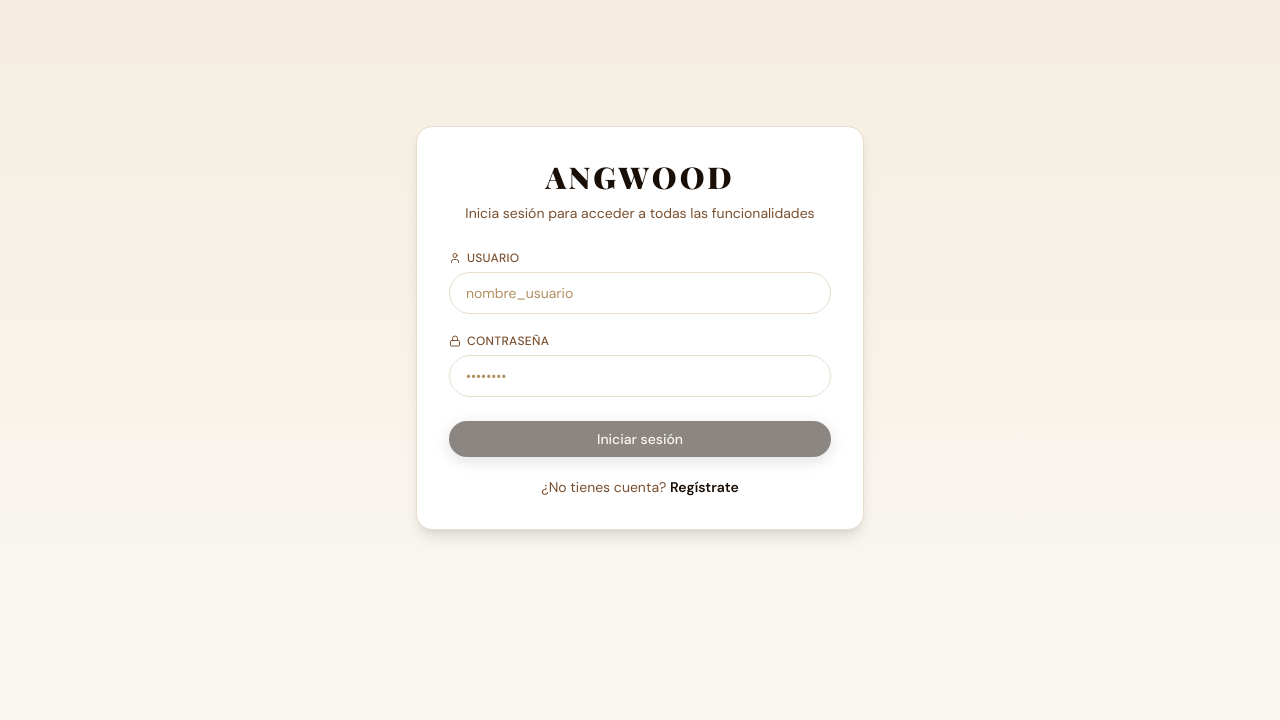
Test case: Login page › muestra error si login falla
This screenshot has width=1280, height=720.
Step 1. Type "ana" into the field with placeholder "nombre_usuario" → (640, 293), box [449,272,831,314]
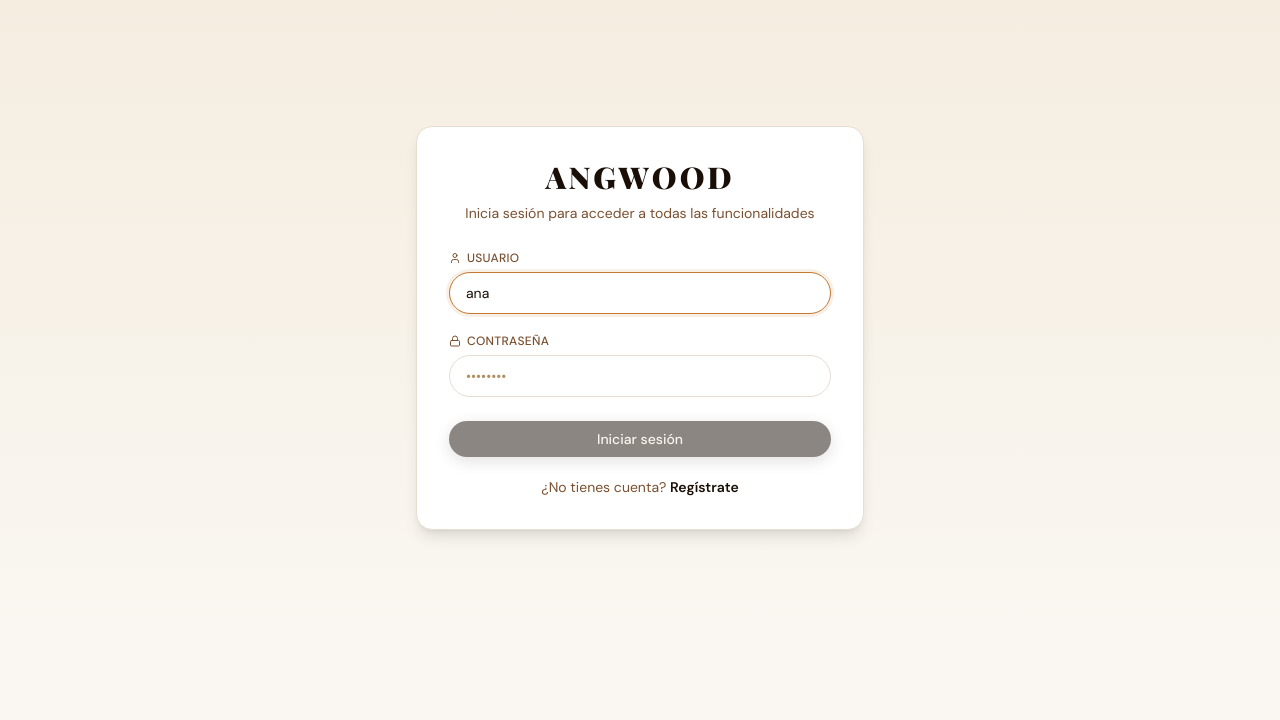
Step 2. Type "mal" into the password field with placeholder "••••••••" → (640, 376), box [449,355,831,397]
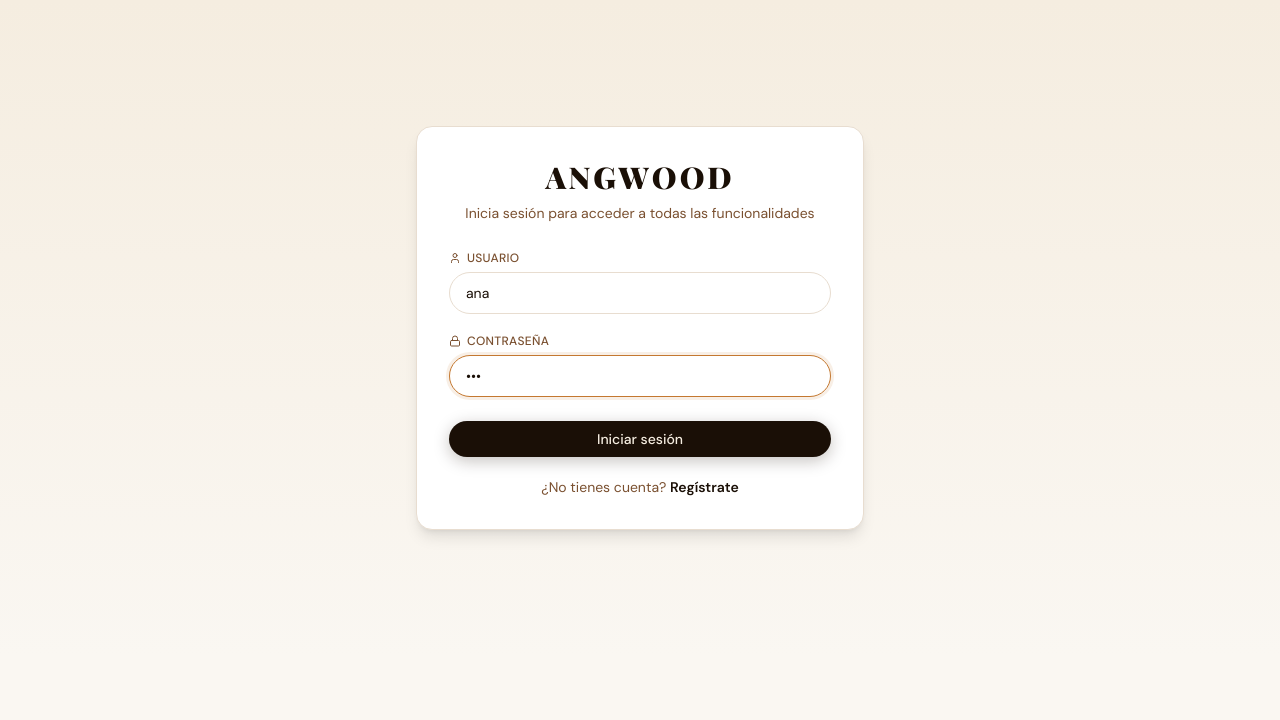
Step 3. Click the button "Iniciar sesión" → (640, 439), box [449,421,831,457]
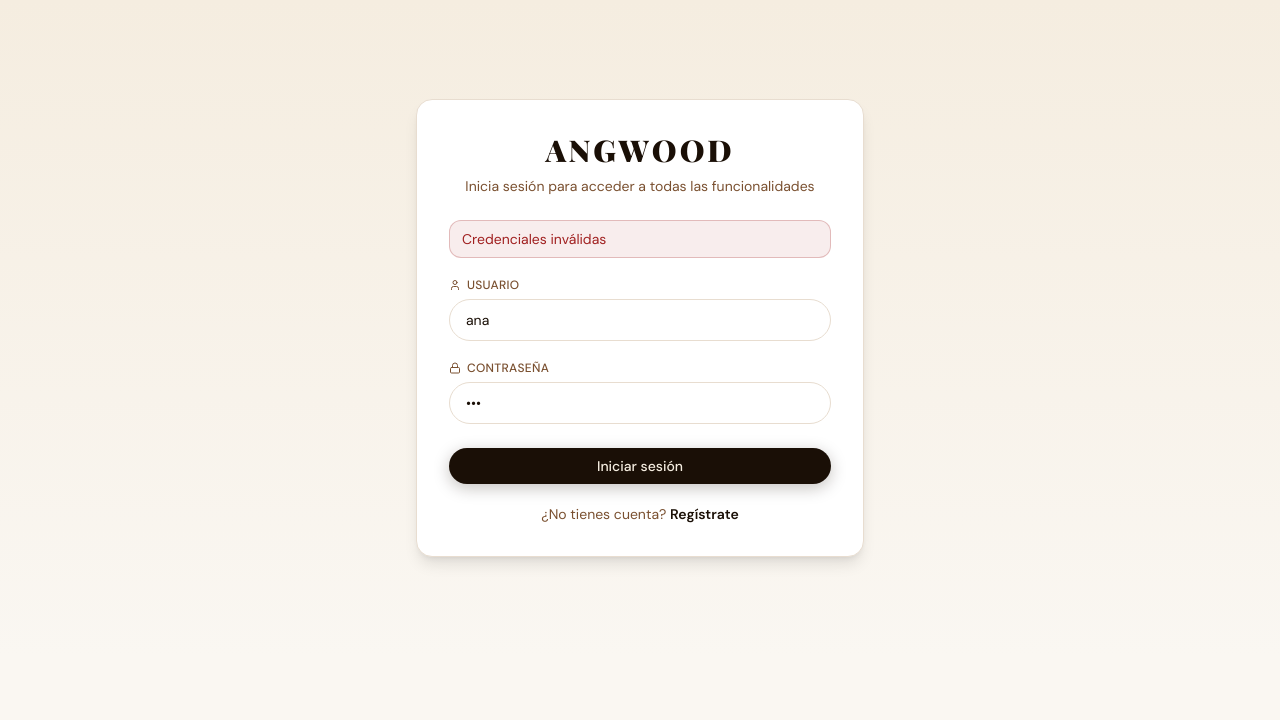
Expected: the text "Credenciales inválidas" is shown, [449,220,831,258]
